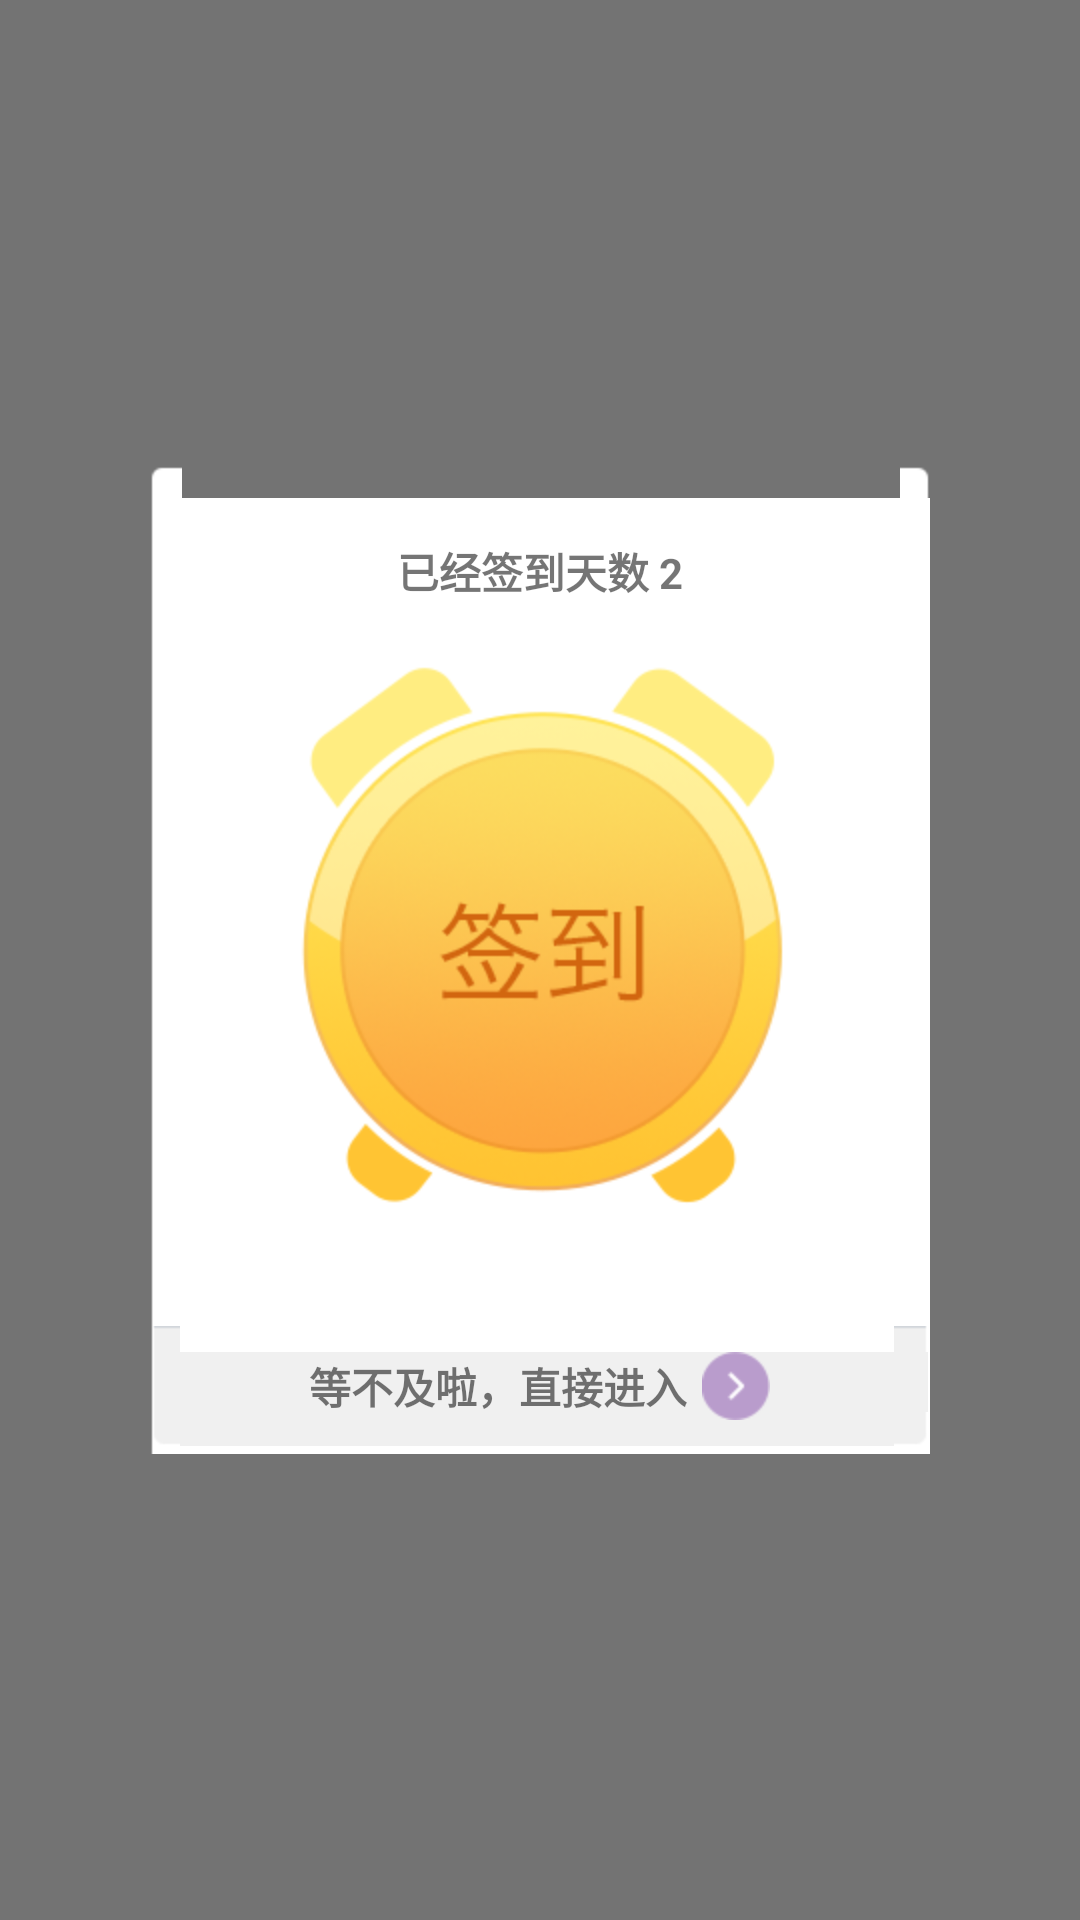

Icon click points for this 1080w x 1920h phone screenshot, format (x,y):
report dialog enterbg: (736,1386)
